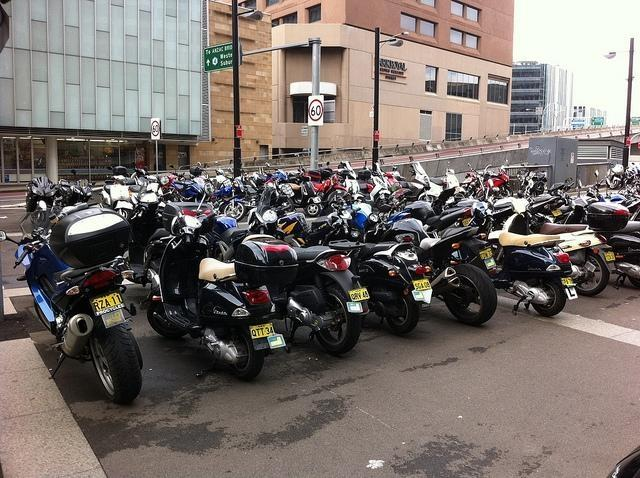motorcycle: (133, 192, 304, 380), (1, 203, 146, 405), (277, 212, 434, 336), (245, 201, 368, 356), (460, 176, 577, 319), (366, 202, 498, 326), (522, 198, 630, 299), (545, 201, 640, 239), (410, 156, 460, 202), (278, 174, 321, 215), (25, 176, 56, 231), (213, 169, 245, 221), (70, 169, 105, 208)
